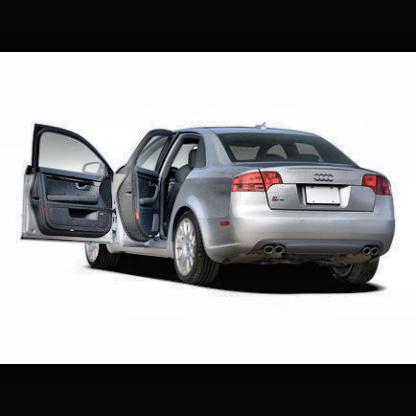Audi S4 Sedan 2007: (14, 121, 401, 284)
